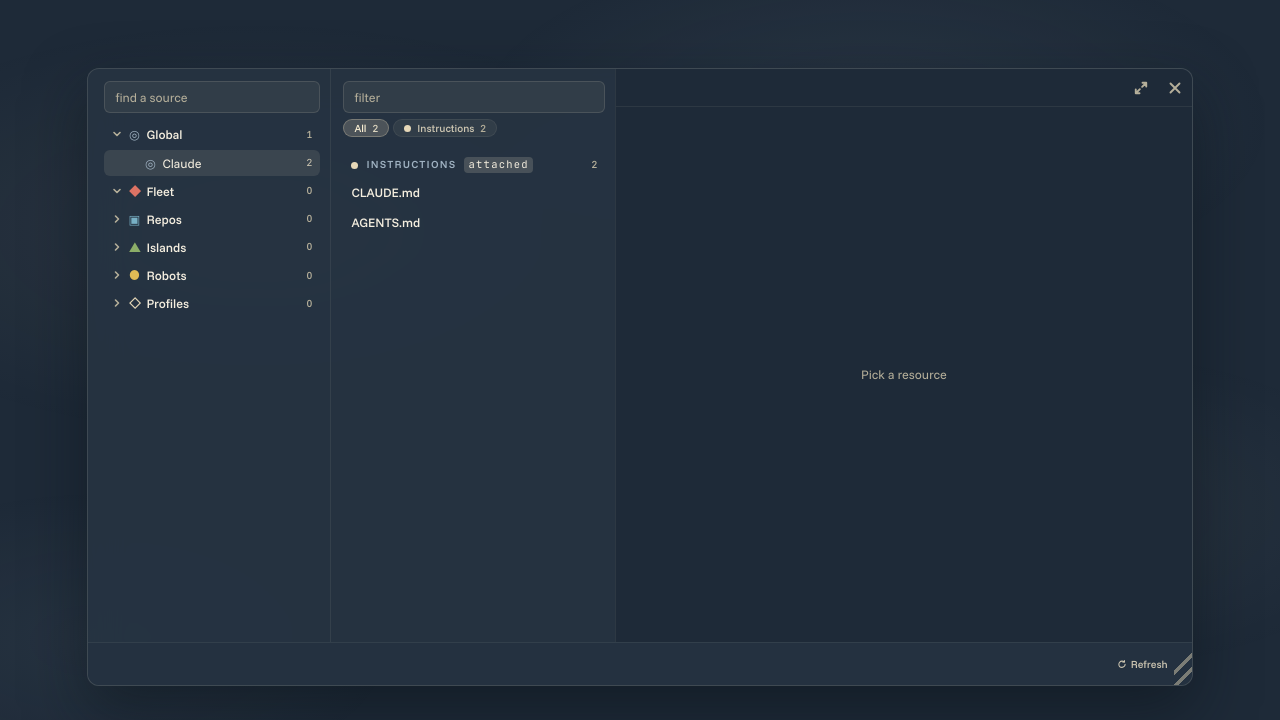
a row the pointer picks still hands the keys to its file
The width and height of the screenshot is (1280, 720).
Click the button with test id "resources-item-instructions-AGENTS.md".
click(386, 222)  # box left=343, top=207, right=605, bottom=237
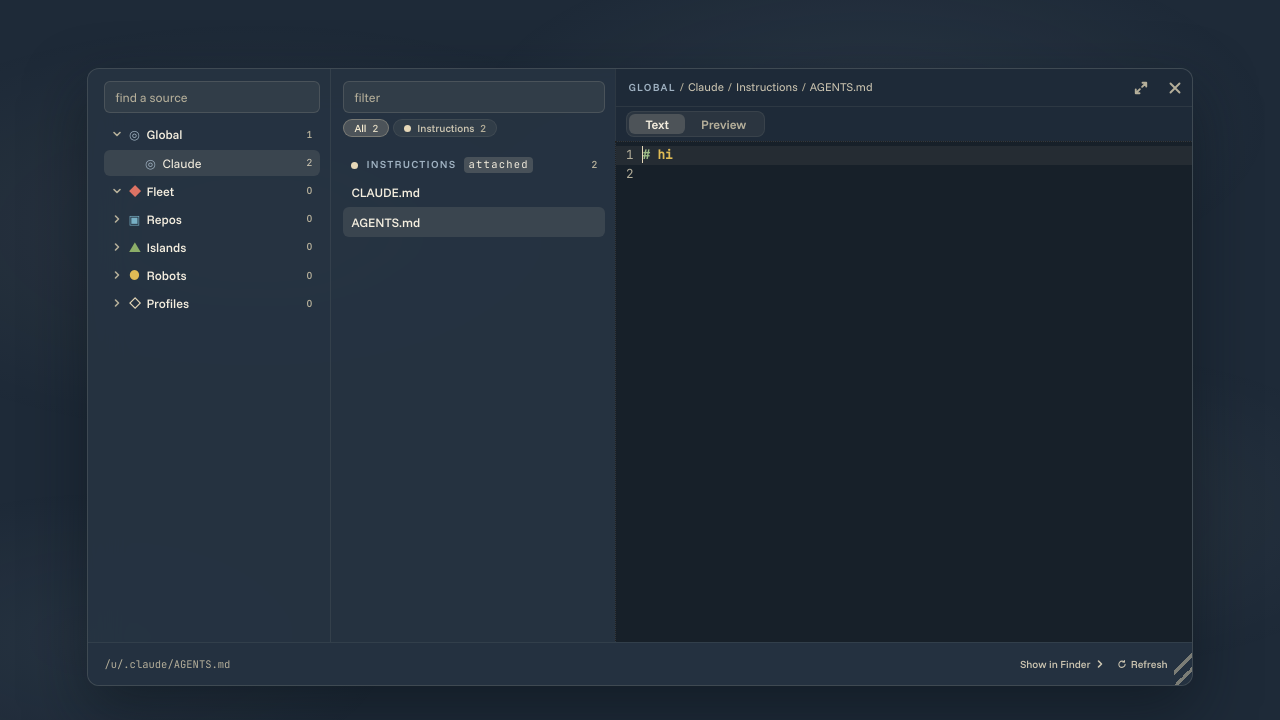
Result: the element with test id "editor" is shown at left=616, top=107, right=1192, bottom=642
